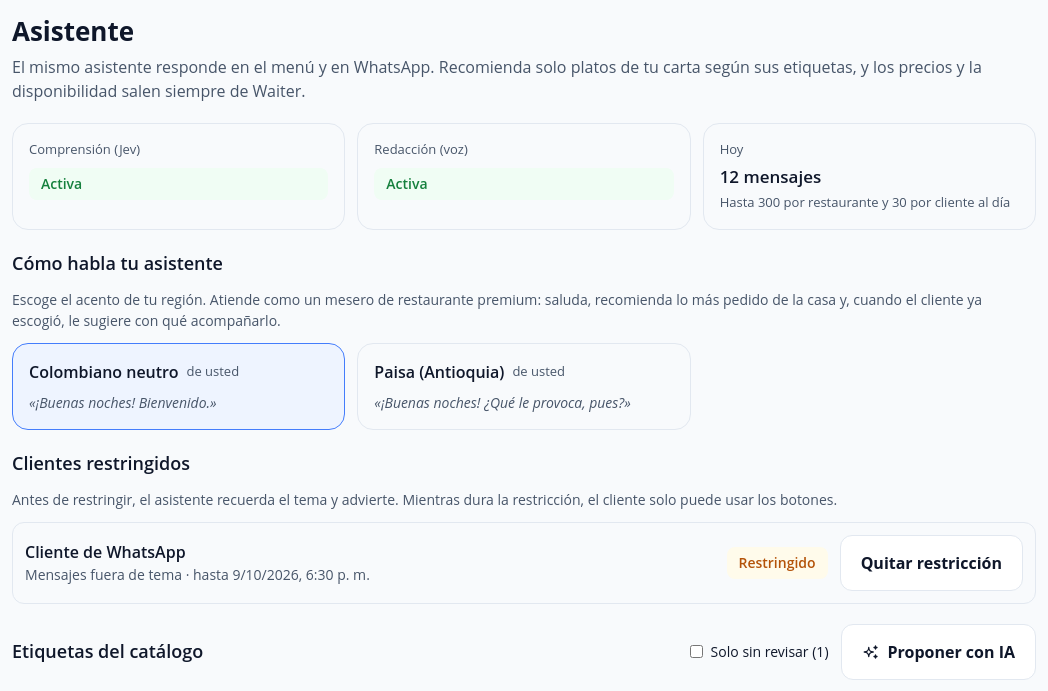
Test: quita la restricción a un cliente
The image size is (1048, 691).
Expected: the text "Cliente de WhatsApp" is shown, [25, 541, 186, 563]
Expected: the text "Mensajes fuera de tema · hasta 9/10/2026, 6:30 p. m." is shown, [25, 565, 370, 584]
Click the button "Quitar restricción": [931, 562] box [840, 534, 1023, 590]
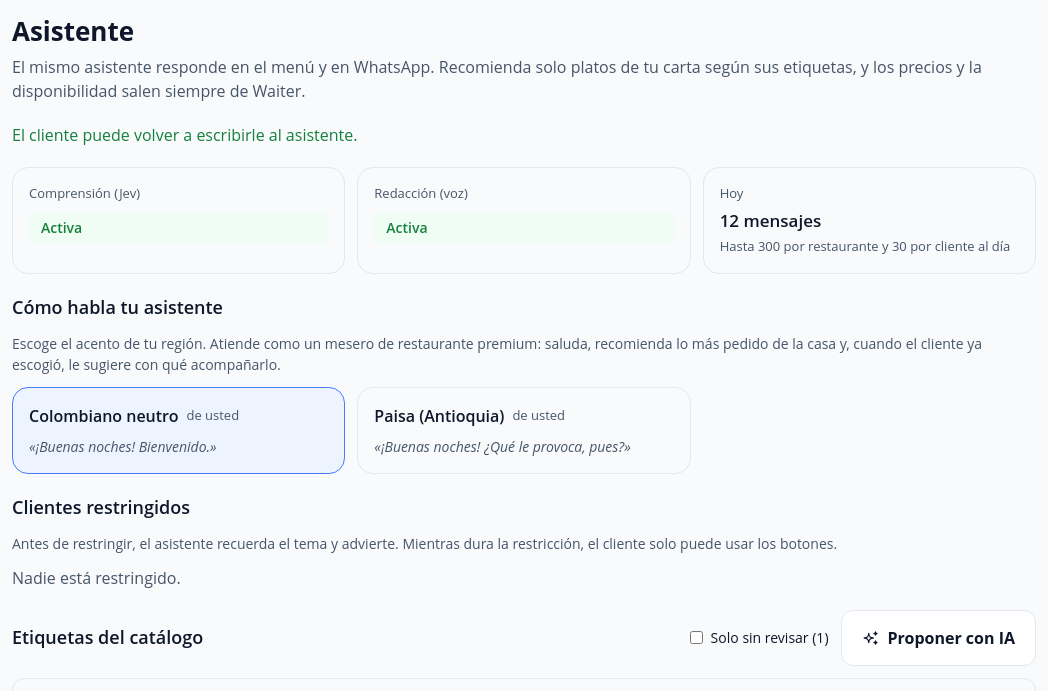
Expected: the text "Nadie está restringido." is shown, [12, 566, 181, 588]
